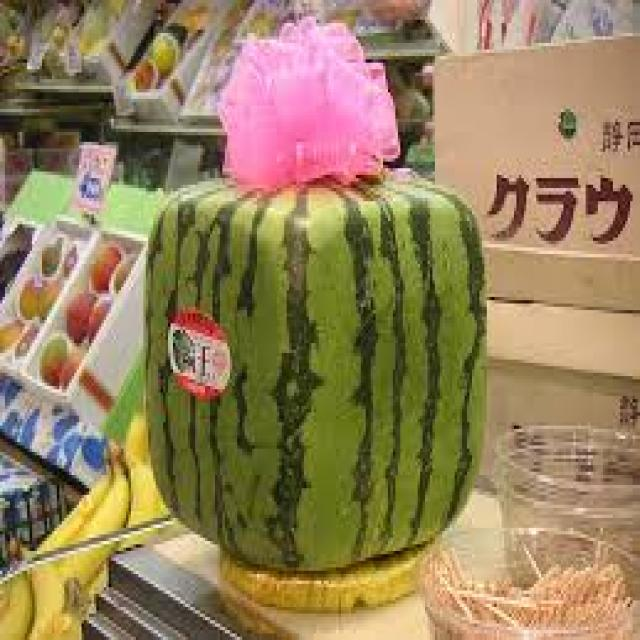watermelon: (143, 165, 487, 577)
